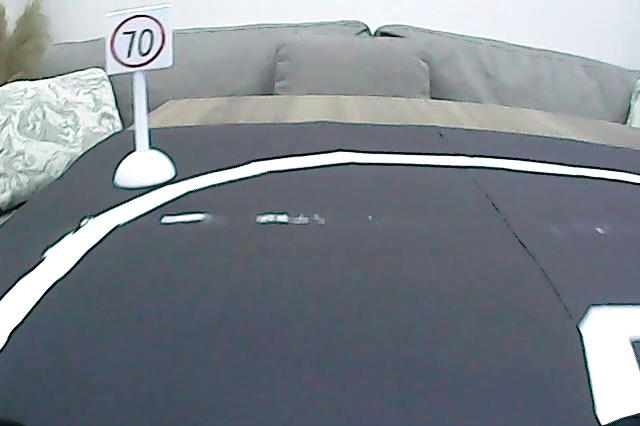speed limit 70: (108, 11, 168, 70)
